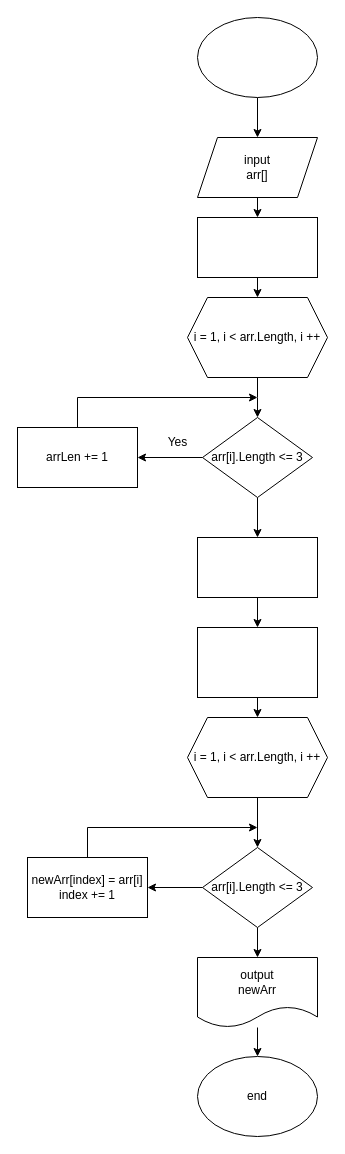
Some shapes in this 345 by 1154 pixel diagram are drawn without their labels. Here are the shapes that lost their labels. From the top down, the centre of each, then its label:
the point at 257,57: Start
the point at 257,247: arrLen = 0
the point at 257,567: new newArr[ArrLen]
the point at 257,662: index = 0
